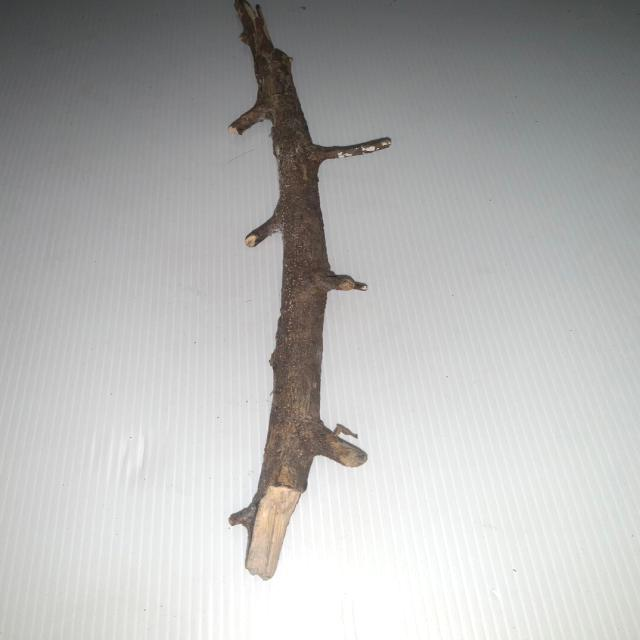Infectious: (225, 0, 394, 580)
